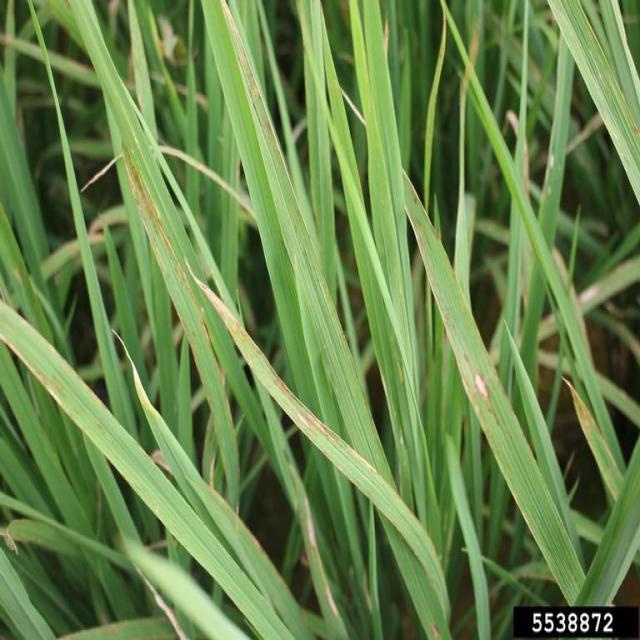Bacterial leaf blight: (185, 261, 408, 523), (222, 2, 284, 156), (119, 146, 185, 288), (471, 364, 508, 420)
